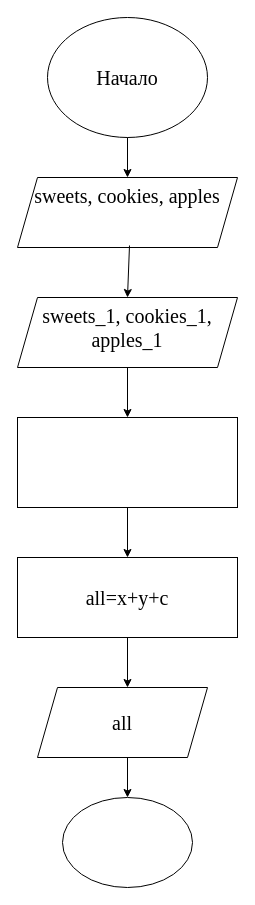
This 255x905 diagram has some shape labels left out. Each missing label, with the centre of its shape:
"x=sweets*sweets_1, y=cookies*cookies_1, c=apples*apples_1" belongs at (127,462).
"Конец" belongs at (127,842).
